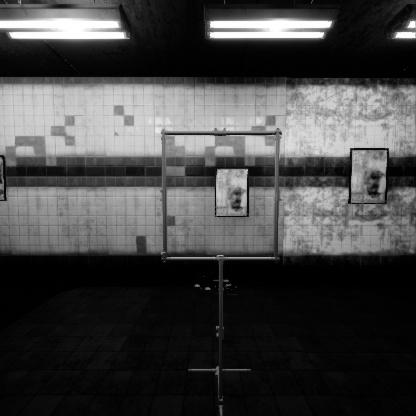gate: (162, 153, 292, 286)
